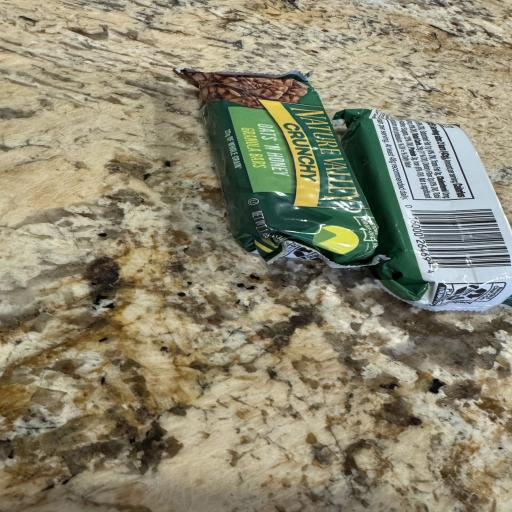granola: (175, 69, 377, 266), (335, 109, 511, 310)
